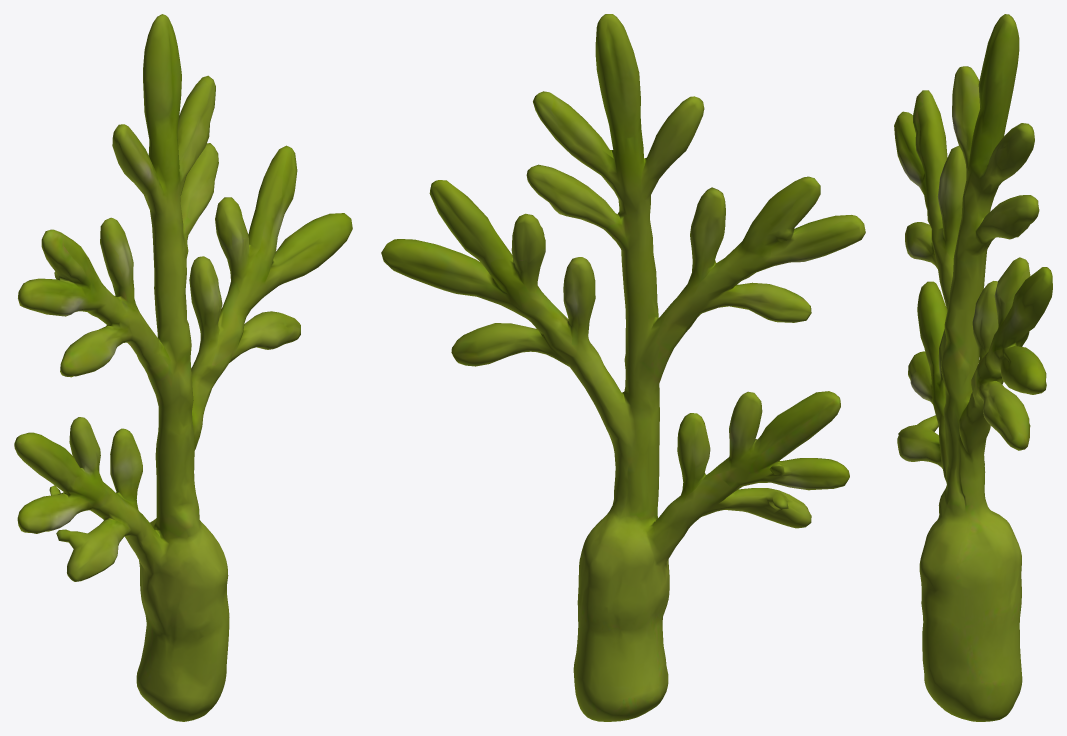
The model's file is cosmos_s2.glb.
3 views of the same model, side by side, from view 1: azimuth 30°, elevation 25°; view 2: azimuth 150°, elevation 25°; view 3: azimuth 270°, elevation 25° (orthographic). The views are drawn at different scales.
Size of the model in its own units: 0.6062 by 1 by 0.2071.
1 material, 1 textured.
